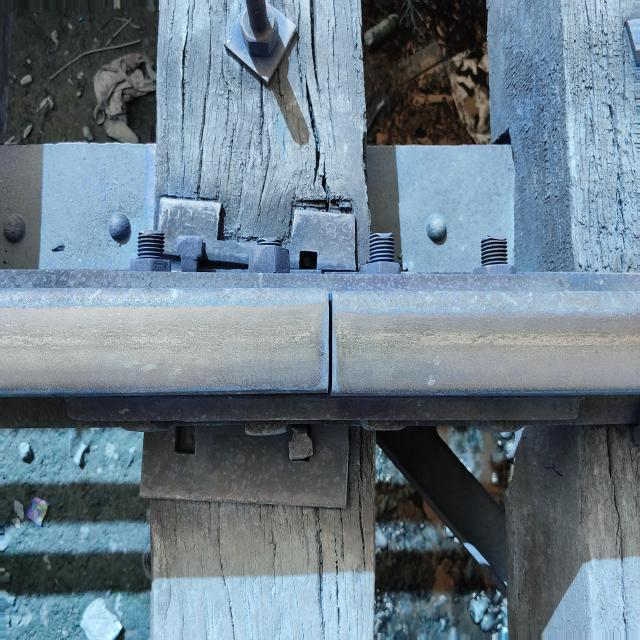crack: (304, 276, 356, 397)
